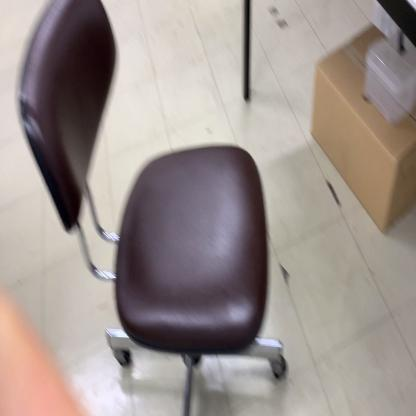chair: (16, 1, 288, 416)
